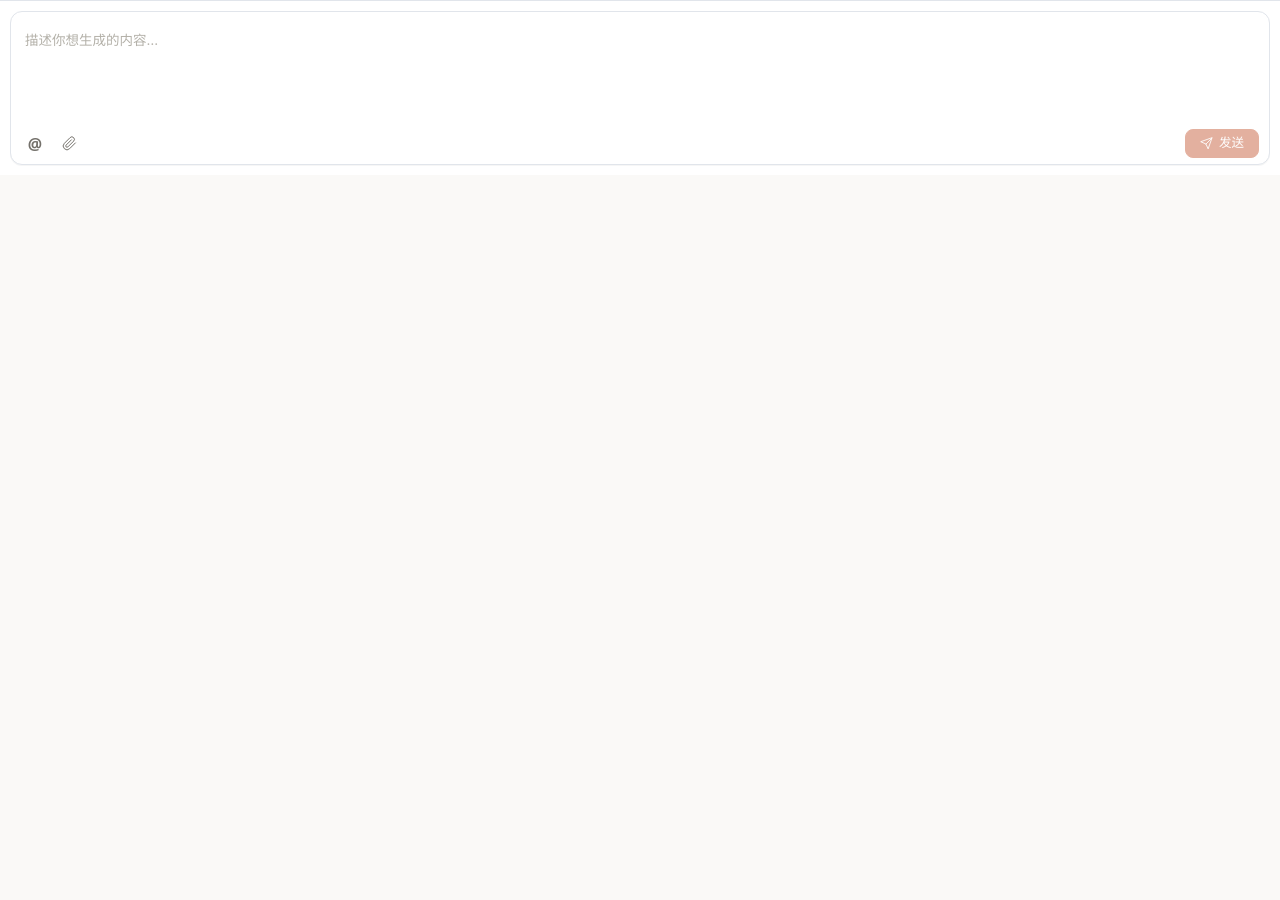
it: ChatComposer context pickers › localizes @ panel tabs and empty states in Chinese mode
The image size is (1280, 900).
Type "@" into the text box with test id "chat-composer-input" at (640, 70), box [21, 26, 1259, 114]
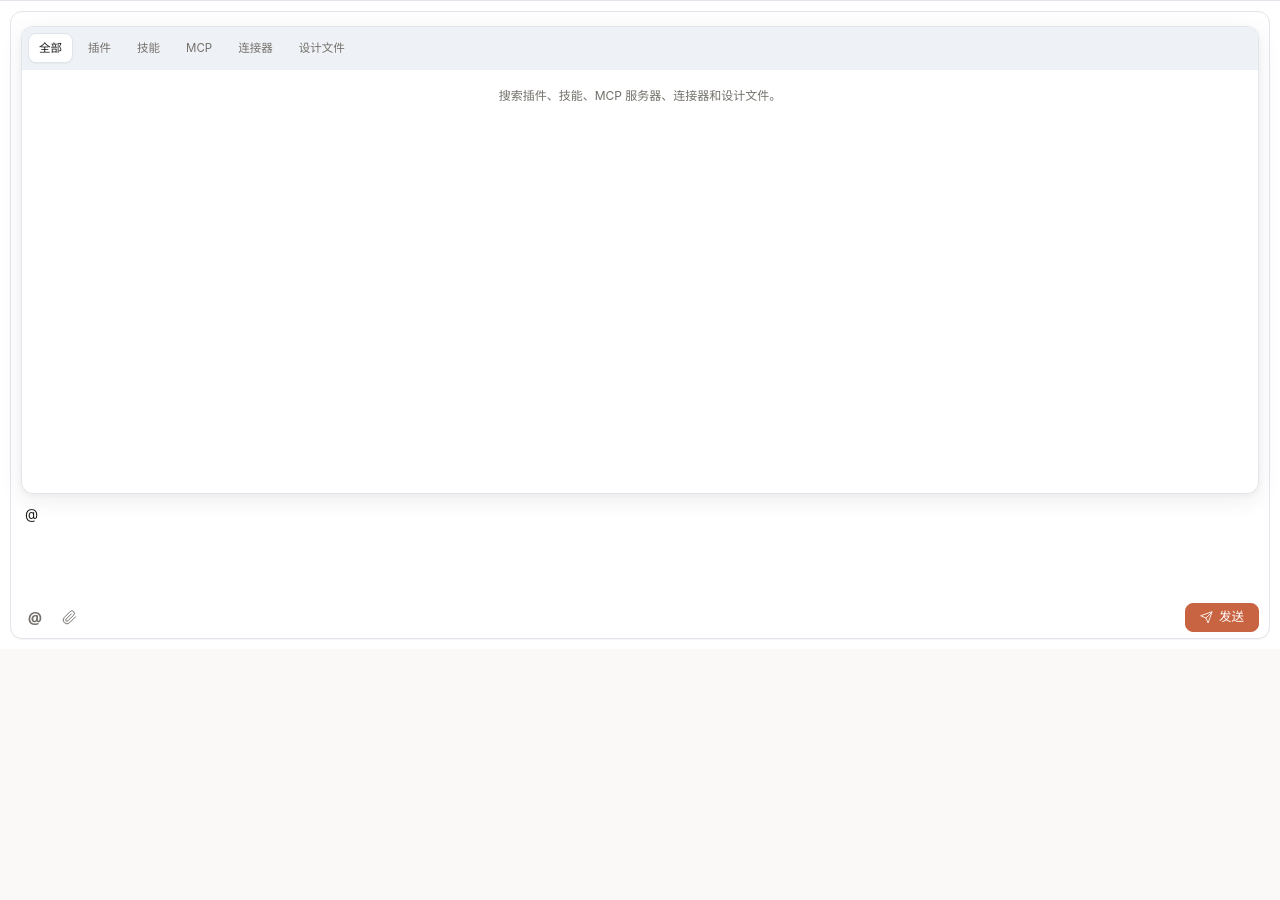
Check: the tab "全部" is shown, box [28, 33, 73, 63]
Check: the tab "插件" is shown, box [77, 33, 122, 63]
Check: the tab "技能" is shown, box [126, 33, 171, 63]
Replace the text in the text box with test id "chat-composer-input" with "@missing" at (640, 544), box [21, 500, 1259, 588]
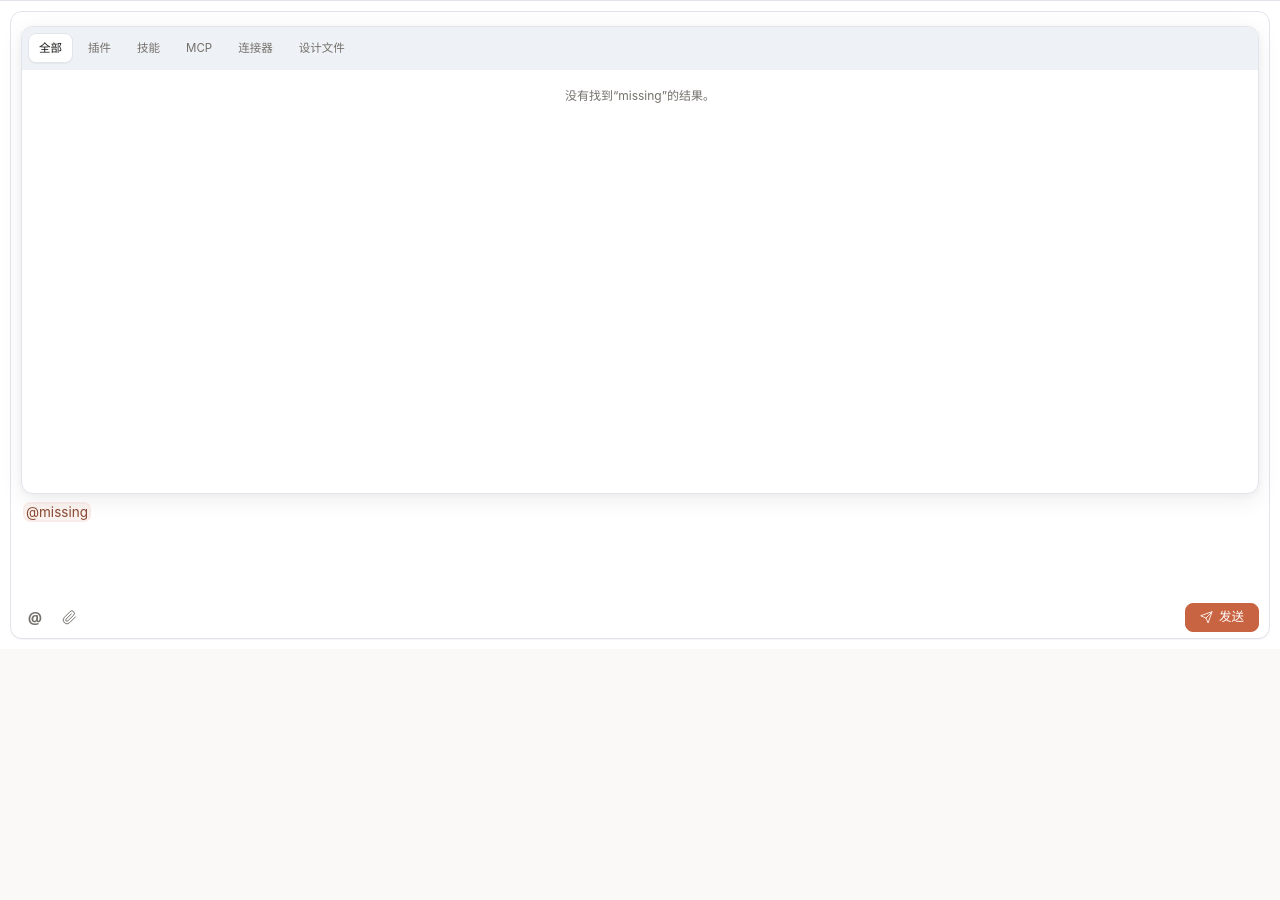
Check: the text "没有找到“missing”的结果。" is shown, box [565, 88, 715, 103]
